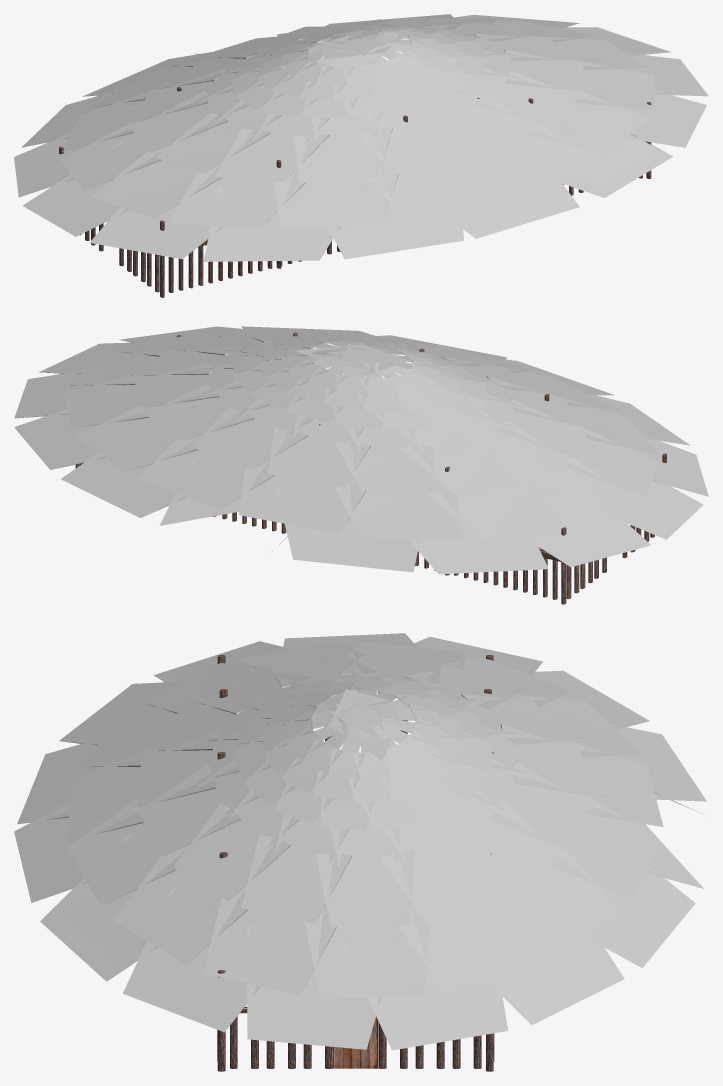
The model's file is casa.fbx.
3 views of the same model, one above another, from view 1: azimuth 30°, elevation 25°; view 2: azimuth 150°, elevation 25°; view 3: azimuth 270°, elevation 25° (orthographic). The views are drawn at different scales.
Visible parts, largest first — view 1: HUt.001, Cylinder; view 2: HUt.001, Cylinder; view 3: HUt.001, Cylinder, Cube.
Part boxes in pixels (x1,y1,x2,y2): HUt.001: (14, 14, 708, 261); Cylinder: (59, 25, 651, 297); HUt.001: (14, 326, 708, 574); Cylinder: (75, 332, 666, 604); HUt.001: (14, 633, 706, 1050); Cylinder: (217, 655, 494, 1071); Cube: (332, 1016, 378, 1068).
Bounding box in the file's own units: 7784 × 1756 × 5478.
